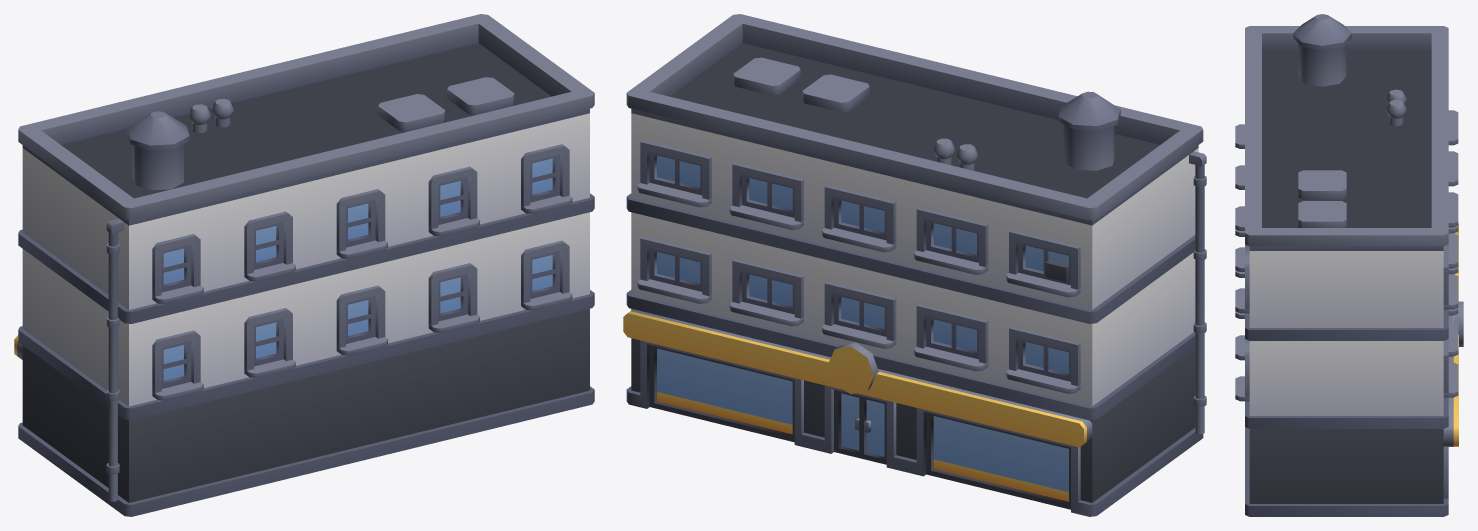
Rendered from building-k.glb.
3 renders of one model, left to right at view 1: azimuth 30°, elevation 25°; view 2: azimuth 150°, elevation 25°; view 3: azimuth 270°, elevation 25°, orthographic. The views are drawn at different scales.
Parts seen in each view (by area): view 1: building-k; view 2: building-k; view 3: building-k.
Boxes of the visible parts, box(x1,y1,x2,y2) form: building-k: box(14, 14, 594, 516); building-k: box(623, 14, 1206, 516); building-k: box(1235, 14, 1463, 516).
Size of the model in its own units: 2.08 by 1.47 by 0.9415.
Materials: 1 (1 with a texture image).
